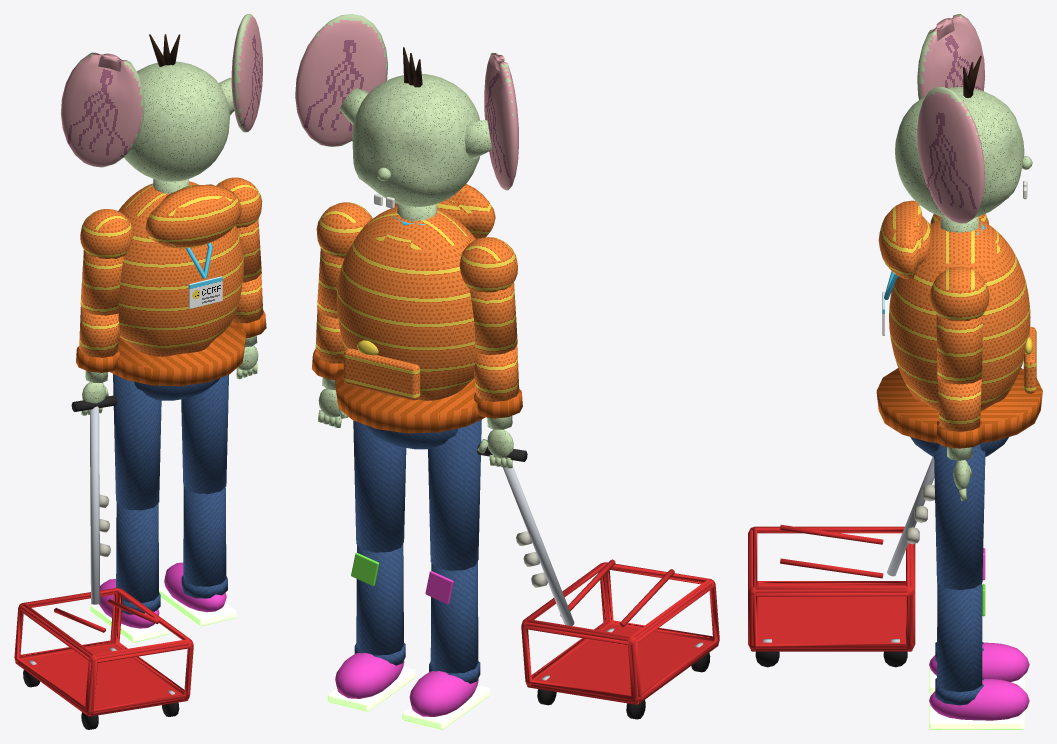
File: c_dumpling.glb
3 views of the same model, side by side, from view 1: azimuth 30°, elevation 25°; view 2: azimuth 150°, elevation 25°; view 3: azimuth 270°, elevation 25° (orthographic). The views are drawn at different scales.
Visible parts, largest first — view 1: part_spine, part_head, part_handL, part_kneeR, part_kneeL, part_legL, part_legR, part_armL, part_foreL, part_arm, part_foreR, part_body (+1 smaller); view 2: part_spine, part_head, part_handL, part_kneeR, part_kneeL, part_legL, part_legR, part_armL, part_arm, part_foreL, part_foreR, part_body (+1 smaller); view 3: part_spine, part_head, part_handL, part_kneeR, part_legR, part_arm, part_foreR, part_kneeL, part_body, part_handR.
Boxes of the visible parts, <box> form: part_spine: <box>109,179,246,386</box>; part_head: <box>60,14,262,181</box>; part_handL: <box>14,382,193,729</box>; part_kneeR: <box>159,485,236,626</box>; part_kneeL: <box>90,502,169,642</box>; part_legL: <box>113,374,161,510</box>; part_legR: <box>181,374,228,493</box>; part_armL: <box>80,209,132,315</box>; part_foreL: <box>76,306,120,382</box>; part_arm: <box>216,177,262,282</box>; part_foreR: <box>229,274,266,347</box>; part_body: <box>134,378,219,400</box>; part_spine: <box>334,184,495,433</box>; part_head: <box>295,14,518,208</box>; part_handL: <box>477,429,719,719</box>; part_kneeR: <box>327,544,415,711</box>; part_kneeL: <box>402,561,489,729</box>; part_legL: <box>428,419,481,570</box>; part_legR: <box>353,420,406,552</box>; part_armL: <box>459,237,517,355</box>; part_arm: <box>316,202,372,318</box>; part_foreL: <box>474,345,522,429</box>; part_foreR: <box>312,309,345,390</box>; part_body: <box>363,424,458,449</box>; part_spine: <box>876,200,1042,442</box>; part_head: <box>895,14,1032,223</box>; part_handL: <box>748,457,934,667</box>; part_kneeR: <box>929,584,1029,729</box>; part_legR: <box>934,444,985,590</box>; part_arm: <box>930,266,989,384</box>; part_foreR: <box>937,379,982,460</box>; part_kneeL: <box>929,548,1029,693</box>; part_body: <box>910,437,1008,456</box>; part_handR: <box>953,460,972,500</box>.
Size of the model in its own units: 0.8304 by 1.71 by 0.691.
20 materials, 6 textured.
